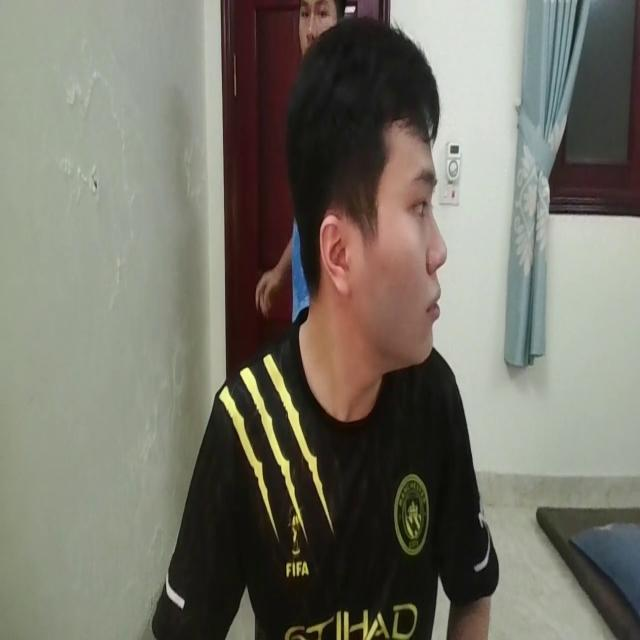extra_person: (293, 0, 340, 51)
student: (132, 10, 493, 640)
